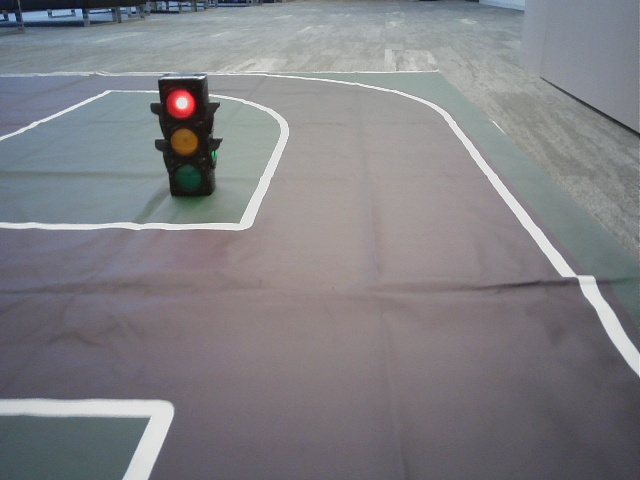red: (165, 85, 205, 190)
